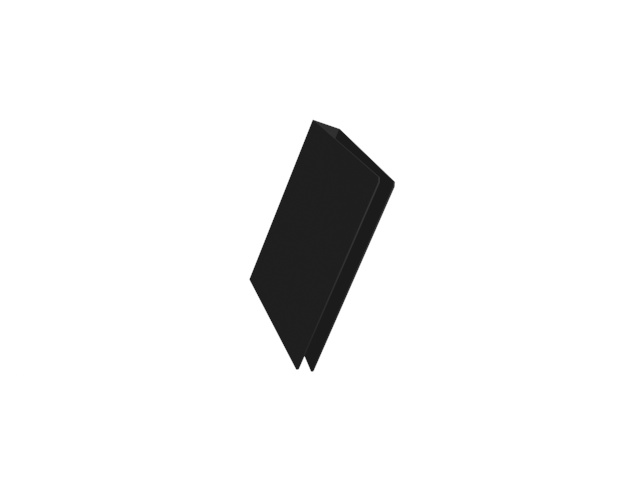ring_binder: (249, 113, 400, 376)
